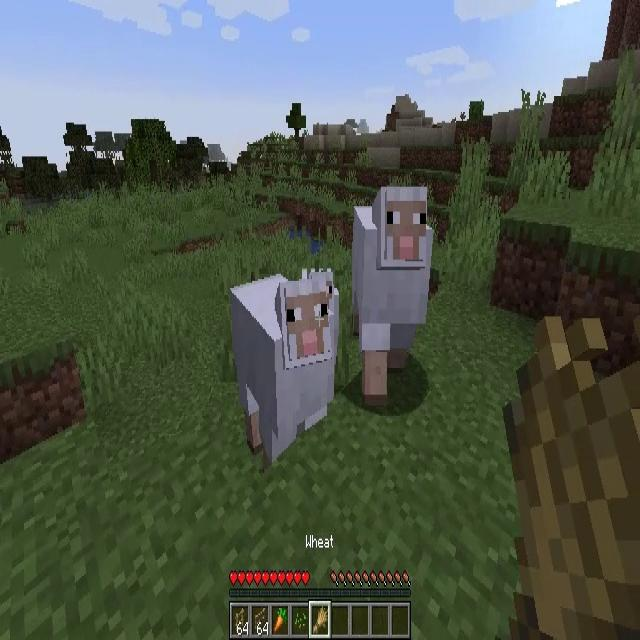sheep: (230, 272, 332, 450), (352, 188, 432, 396)
